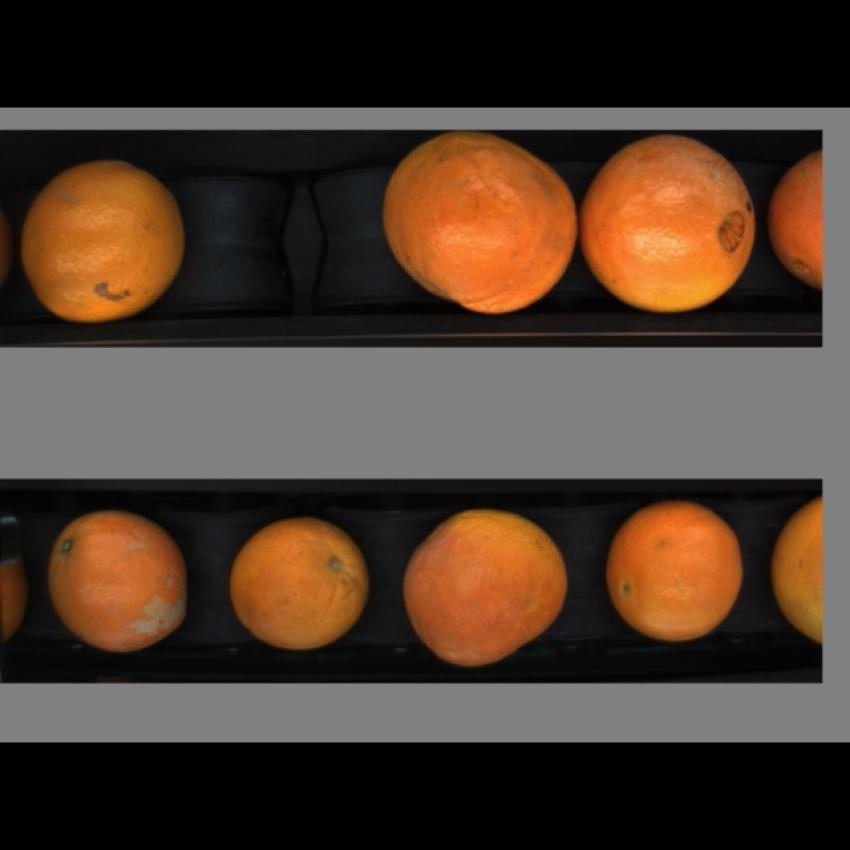Buen estado: (224, 514, 376, 654), (766, 492, 824, 654)
Mal estado: (379, 133, 580, 327), (16, 145, 200, 328), (583, 134, 760, 321), (400, 496, 574, 676), (600, 493, 752, 652), (42, 503, 192, 658), (765, 144, 821, 299)
